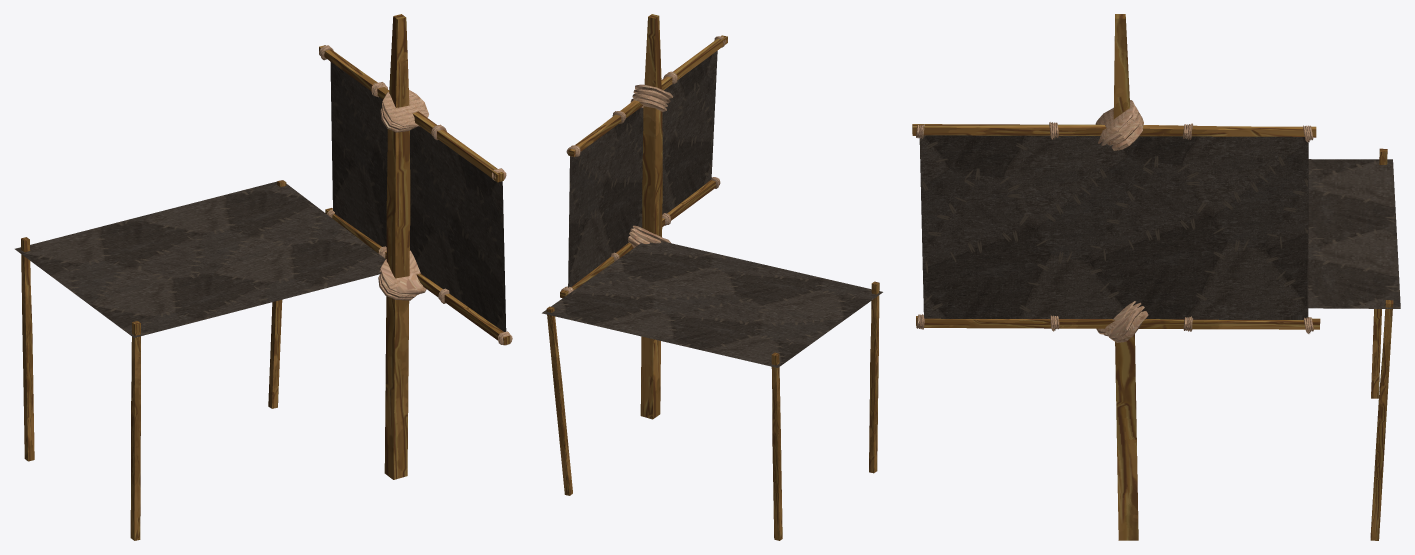
Rendered from Mast n sail.fbx.
3 renders of one model, left to right at view 1: azimuth 30°, elevation 25°; view 2: azimuth 150°, elevation 25°; view 3: azimuth 270°, elevation 25°, orthographic. The views are drawn at different scales.
Parts seen in each view (by area): view 1: Canope, Sail, Mast, CanopeSticks; view 2: Canope, Sail, Mast, CanopeSticks; view 3: Sail, Mast, Canope, CanopeSticks.
Boxes of the visible parts, bbox=[...] form: Canope: bbox=[15, 181, 385, 337]; Sail: bbox=[330, 61, 506, 331]; Mast: bbox=[319, 14, 512, 479]; CanopeSticks: bbox=[21, 180, 286, 540]; Canope: bbox=[542, 241, 882, 367]; Sail: bbox=[568, 51, 717, 287]; Mast: bbox=[560, 14, 727, 419]; CanopeSticks: bbox=[546, 281, 879, 540]; Sail: bbox=[919, 135, 1308, 319]; Mast: bbox=[912, 14, 1320, 540]; Canope: bbox=[1308, 159, 1400, 308]; CanopeSticks: bbox=[1370, 148, 1393, 540].
Size of the model in its own units: 3.49 by 5.37 by 4.48.
Materials: 4 (4 with a texture image).
